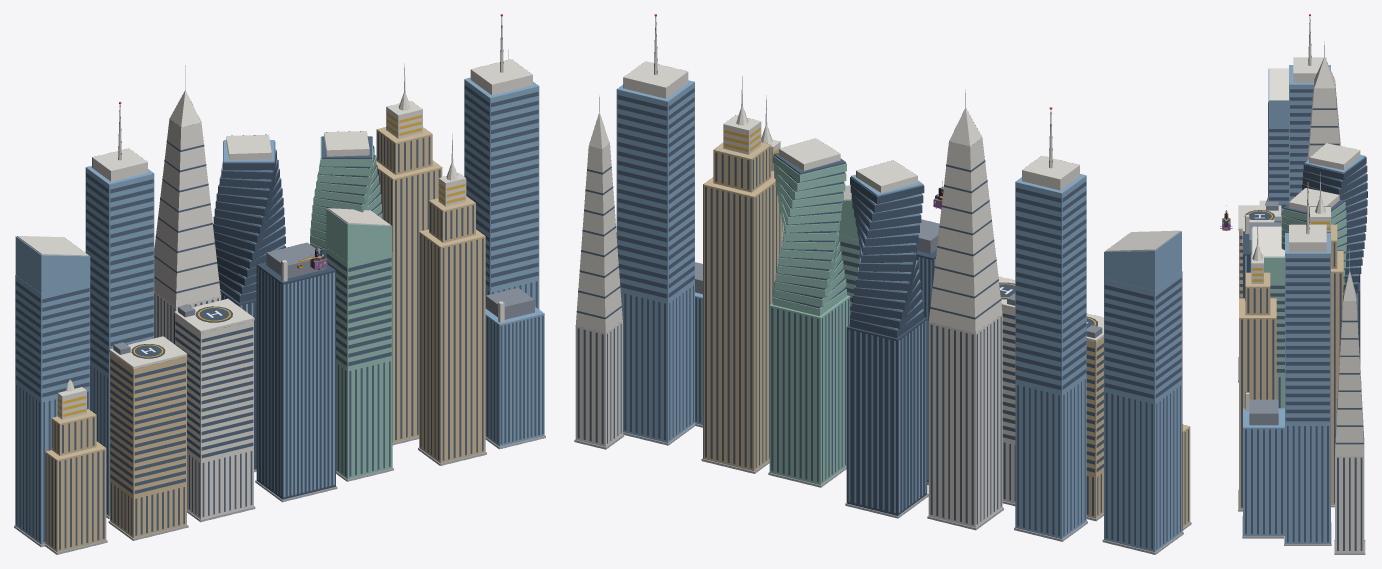
The model's file is fps-kit-highrise.glb.
3 renders of one model, left to right at view 1: azimuth 30°, elevation 25°; view 2: azimuth 150°, elevation 25°; view 3: azimuth 270°, elevation 25°, orthographic. The views are drawn at different scales.
Parts seen in each view (by area): view 1: KIT_HIGHRISE_Backdrop_RowB, KIT_HIGHRISE_Backdrop_RowA; view 2: KIT_HIGHRISE_Backdrop_RowB, KIT_HIGHRISE_Backdrop_RowA; view 3: KIT_HIGHRISE_Backdrop_RowB, KIT_HIGHRISE_Backdrop_RowA.
Part boxes in pixels (bbox=[...]): KIT_HIGHRISE_Backdrop_RowB: bbox=[14, 14, 539, 547]; KIT_HIGHRISE_Backdrop_RowA: bbox=[45, 49, 545, 554]; KIT_HIGHRISE_Backdrop_RowB: bbox=[616, 14, 1183, 554]; KIT_HIGHRISE_Backdrop_RowA: bbox=[574, 76, 1191, 541]; KIT_HIGHRISE_Backdrop_RowB: bbox=[1238, 41, 1346, 545]; KIT_HIGHRISE_Backdrop_RowA: bbox=[1242, 14, 1367, 554].
Size of the model in its own units: 259 by 194 by 70.59.
Materials: 1 (1 with a texture image).
